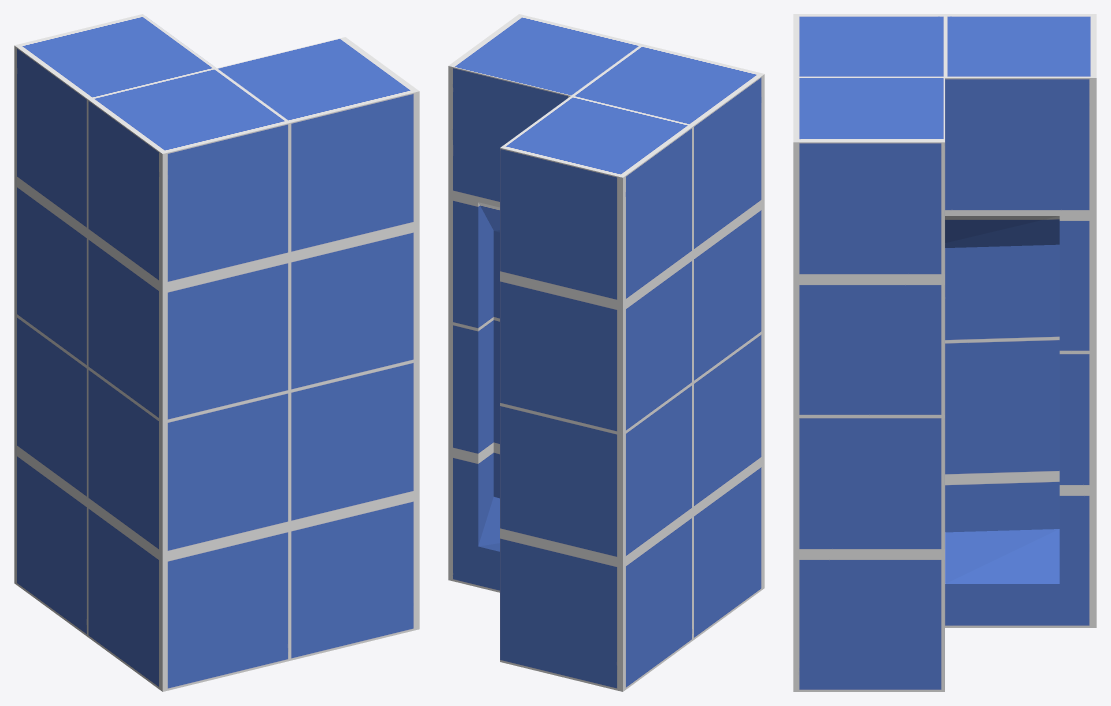
The model's file is M_Corner.FBX.
3 views of the same model, side by side, from view 1: azimuth 30°, elevation 25°; view 2: azimuth 150°, elevation 25°; view 3: azimuth 270°, elevation 25° (orthographic). The views are drawn at different scales.
Parts seen in each view (by area): view 1: M_Wall_Corner; view 2: M_Wall_Corner; view 3: M_Wall_Corner.
Part boxes in pixels (<box>): M_Wall_Corner: <box>14,14,419,691</box>; M_Wall_Corner: <box>448,14,764,691</box>; M_Wall_Corner: <box>793,14,1096,691</box>.
Size of the model in its own units: 200 by 400 by 200.
